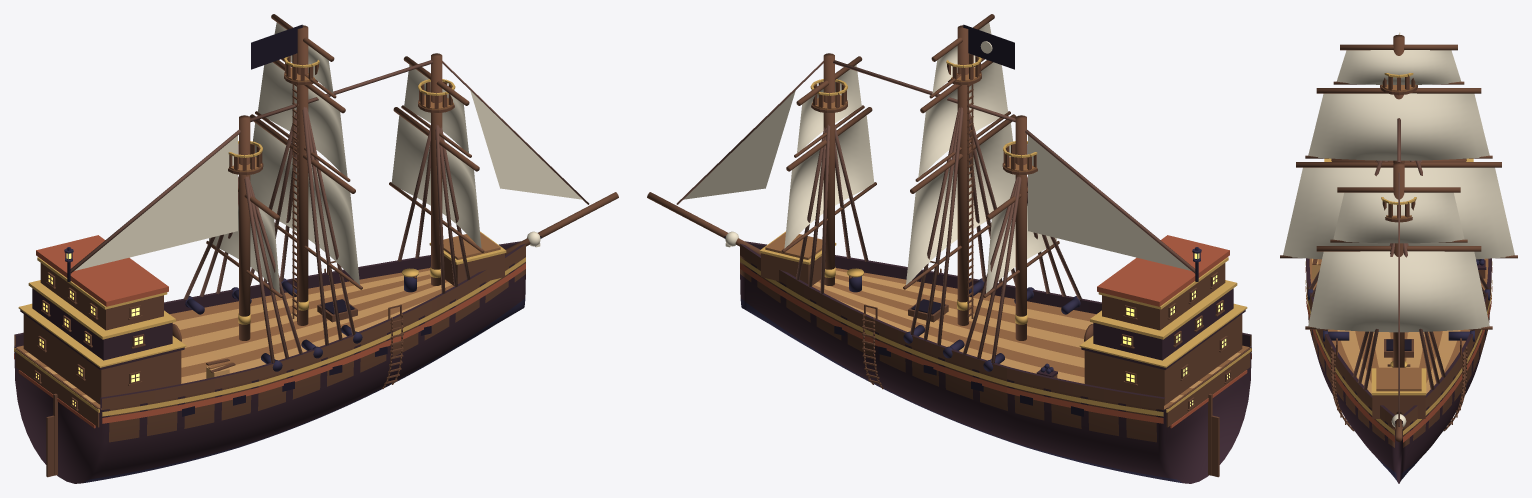
Rendered from galion.glb.
3 views of the same model, side by side, from view 1: azimuth 30°, elevation 25°; view 2: azimuth 150°, elevation 25°; view 3: azimuth 270°, elevation 25° (orthographic).
Parts seen in each view (by area): view 1: hull, sail_z941_spanker, sail_z784, rail_out, sail_z706, cut_roof, sail_z895_jib, sail_z1109, mast.001, band.001, cut_wall_w, cut_up1 (+35 smaller); view 2: hull, sail_z941_spanker, sail_z784, rail_out.001, sail_z706, cut_roof, sail_z895_jib, sail_z1109, mast.001, cut_wall_w, band.003, cut_up1 (+34 smaller); view 3: sail_z706, sail_z1109, sail_z784, sail_z963, hull, sail_z1299, yard_z784, fore_castle_top, fore_castle, mast, yard_z706, rail_out (+23 smaller).
Boxes of the visible parts, x1=… form: hull: x1=14, y1=255, x2=525, y2=483; sail_z941_spanker: x1=74, y1=135, x2=237, y2=270; sail_z784: x1=250, y1=123, x2=359, y2=284; rail_out: x1=102, y1=244, x2=525, y2=409; sail_z706: x1=391, y1=115, x2=481, y2=248; cut_roof: x1=36, y1=235, x2=168, y2=306; sail_z895_jib: x1=470, y1=90, x2=582, y2=199; sail_z1109: x1=258, y1=62, x2=347, y2=177; mast.001: x1=297, y1=25, x2=308, y2=325; band.001: x1=102, y1=263, x2=525, y2=423; cut_wall_w: x1=23, y1=314, x2=104, y2=404; cut_up1: x1=32, y1=288, x2=172, y2=360; hull: x1=740, y1=255, x2=1251, y2=483; sail_z941_spanker: x1=1028, y1=135, x2=1191, y2=270; sail_z784: x1=906, y1=123, x2=1015, y2=284; rail_out.001: x1=740, y1=244, x2=1163, y2=409; sail_z706: x1=784, y1=115, x2=874, y2=248; cut_roof: x1=1097, y1=235, x2=1229, y2=306; sail_z895_jib: x1=684, y1=91, x2=795, y2=199; sail_z1109: x1=918, y1=62, x2=1007, y2=177; mast.001: x1=957, y1=25, x2=968, y2=325; cut_wall_w: x1=1161, y1=314, x2=1242, y2=405; band.003: x1=740, y1=263, x2=1163, y2=423; cut_up1: x1=1093, y1=288, x2=1233, y2=360; sail_z706: x1=1308, y1=251, x2=1489, y2=332; sail_z1109: x1=1308, y1=93, x2=1489, y2=160; sail_z784: x1=1283, y1=167, x2=1514, y2=259; sail_z963: x1=1333, y1=192, x2=1464, y2=243; hull: x1=1307, y1=293, x2=1490, y2=483; sail_z1299: x1=1336, y1=50, x2=1461, y2=84; yard_z784: x1=1296, y1=162, x2=1501, y2=167; fore_castle_top: x1=1376, y1=367, x2=1421, y2=391; fore_castle: x1=1372, y1=395, x2=1425, y2=418; mast: x1=1393, y1=162, x2=1404, y2=367; yard_z706: x1=1316, y1=246, x2=1481, y2=251; rail_out: x1=1306, y1=260, x2=1394, y2=428.
Bounding box in the file's own units: 26.47 × 17.53 × 9.45.
